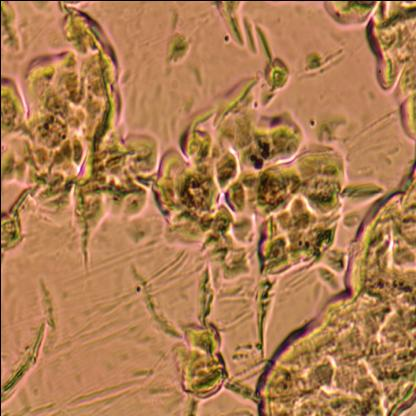Normal: (0, 83, 354, 302), (280, 0, 416, 416)
